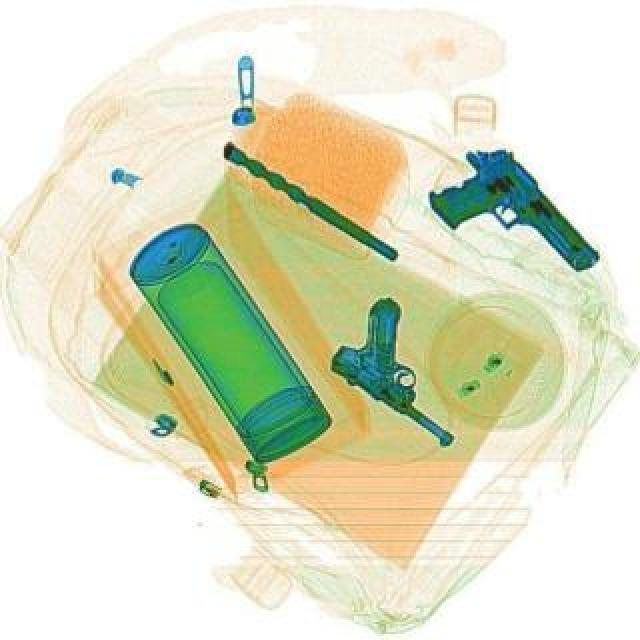gun: (414, 132, 606, 314), (318, 290, 506, 454)
